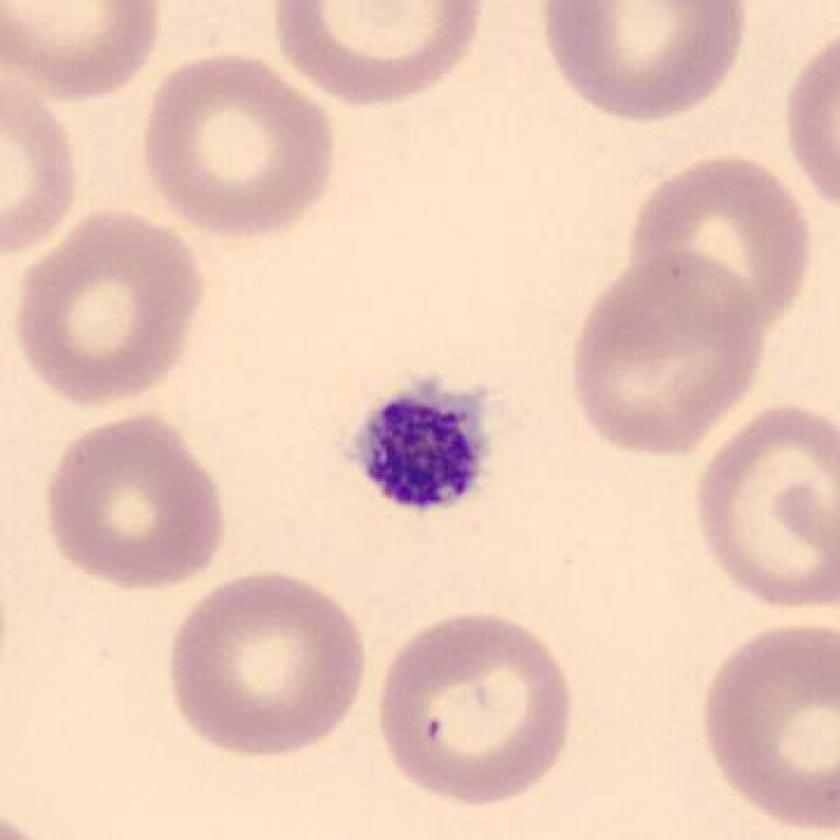platelets: (335, 374, 493, 529)
